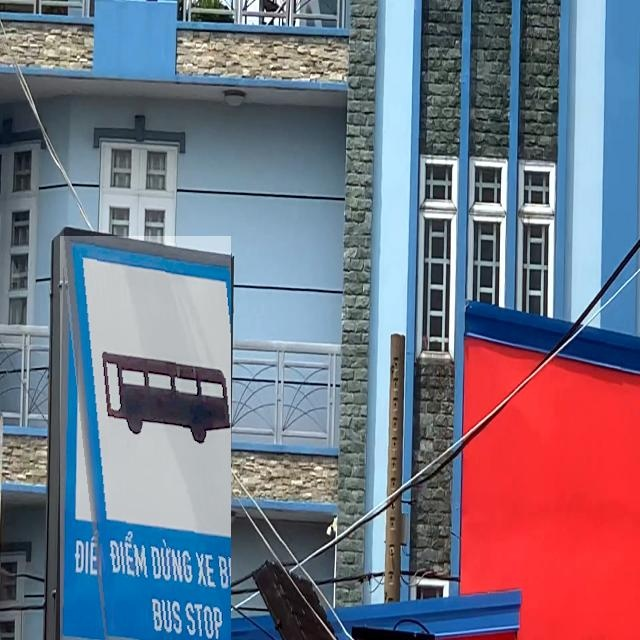bien_chi_dan: (60, 236, 231, 640)
